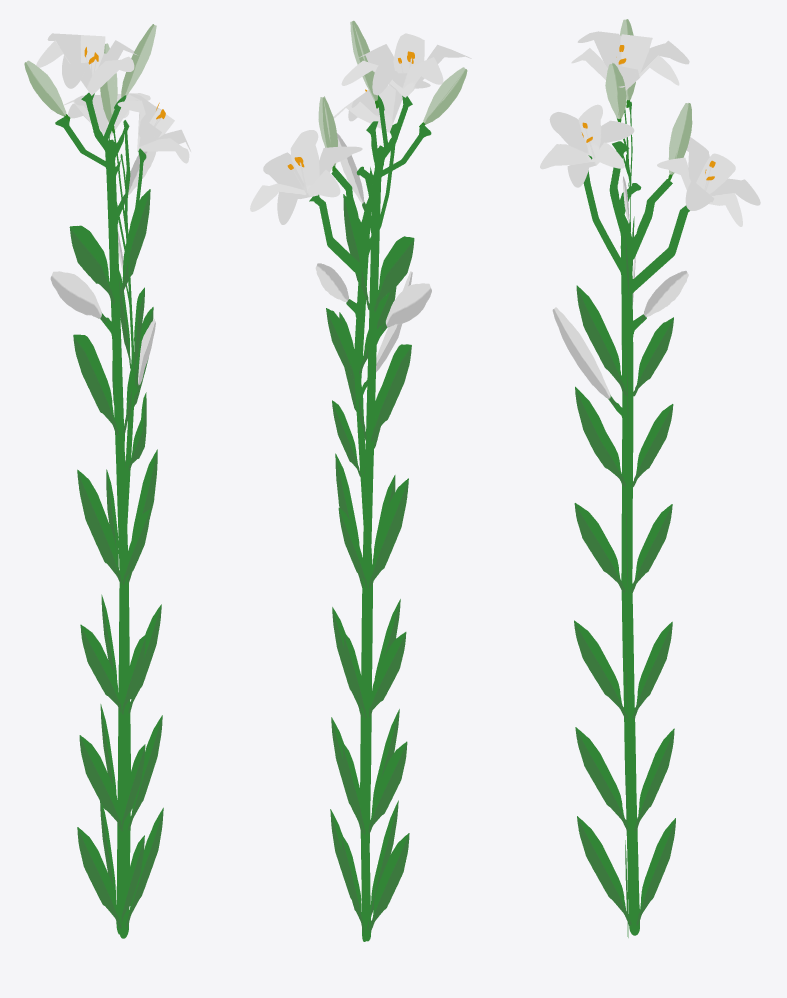
Rendered from PT_Lily_02.fbx.
3 views of the same model, side by side, from view 1: azimuth 30°, elevation 25°; view 2: azimuth 150°, elevation 25°; view 3: azimuth 270°, elevation 25° (orthographic). The views are drawn at different scales.
Visible parts, largest first — view 1: PT_Lily_02_LOD0; view 2: PT_Lily_02_LOD0; view 3: PT_Lily_02_LOD0.
Boxes of the visible parts, box(x1,y1,x2,y2) form: PT_Lily_02_LOD0: box(24, 24, 190, 938); PT_Lily_02_LOD0: box(250, 20, 471, 941); PT_Lily_02_LOD0: box(540, 19, 760, 937).
Size of what is drawn, in the model's own units: 25.29 by 115 by 28.73.
